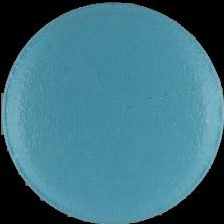51079-547: (0, 0, 224, 224)
